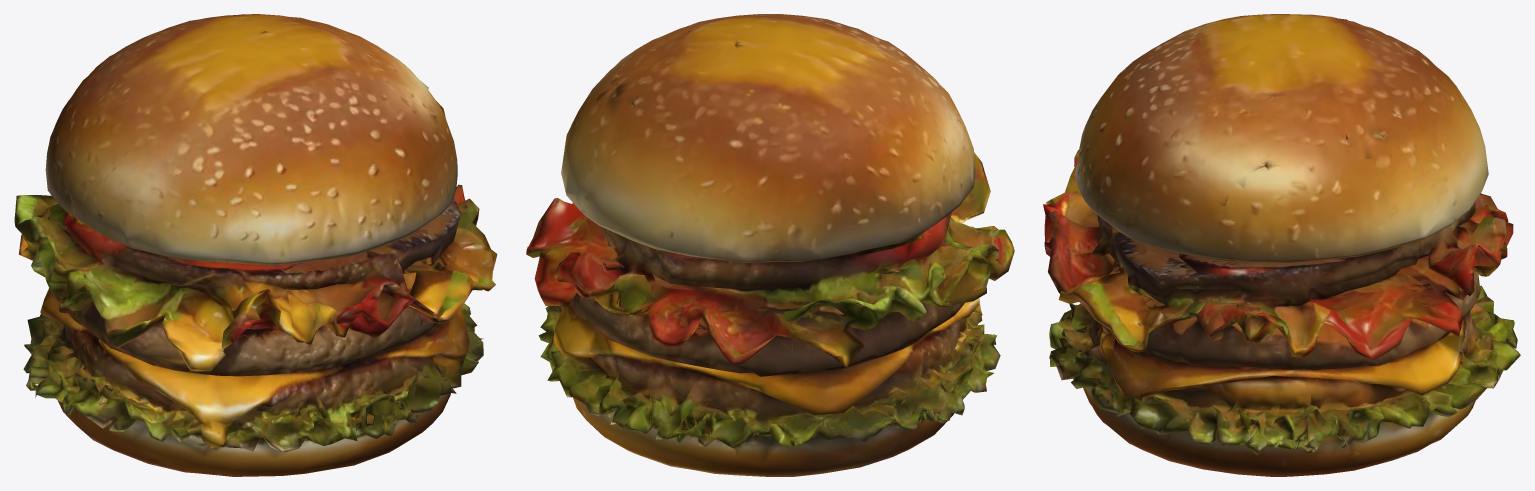
The model's file is burger.glb.
3 views of the same model, side by side, from view 1: azimuth 30°, elevation 25°; view 2: azimuth 150°, elevation 25°; view 3: azimuth 270°, elevation 25° (orthographic).
Visible parts, largest first — view 1: Mesh1_Material.001_0; view 2: Mesh1_Material.001_0; view 3: Mesh1_Material.001_0.
Part boxes in pixels (x1,y1,x2,y2): Mesh1_Material.001_0: [14, 14, 497, 476]; Mesh1_Material.001_0: [526, 14, 1014, 476]; Mesh1_Material.001_0: [1043, 14, 1520, 476].
Bounding box in the file's own units: 1.99 × 1.66 × 2.
Materials: 1 (1 with a texture image).
